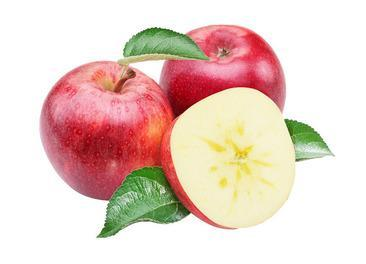apple: (159, 85, 297, 228), (40, 63, 175, 201), (160, 23, 293, 118)
